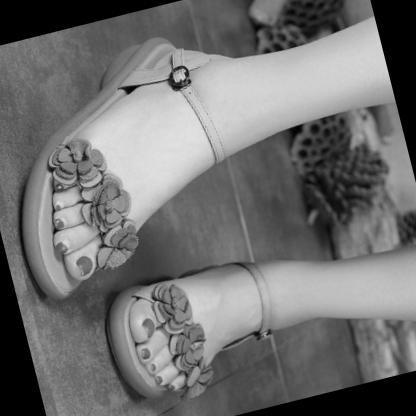ankle: (182, 79, 188, 86), (247, 266, 252, 271)
heel: (171, 50, 176, 55), (190, 274, 192, 276)
left_foot: (98, 255, 289, 406)
pinky: (60, 179, 67, 186), (174, 384, 180, 389)
right_foot: (1, 19, 277, 308)
toe: (142, 320, 152, 332), (81, 266, 89, 275)
